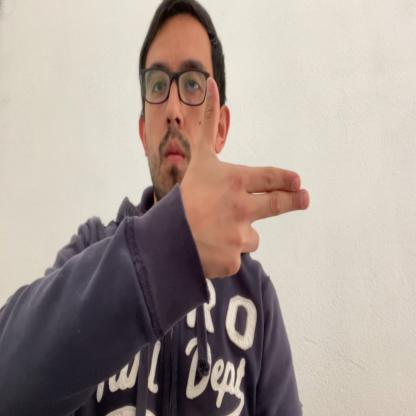H: (186, 73, 312, 280)
